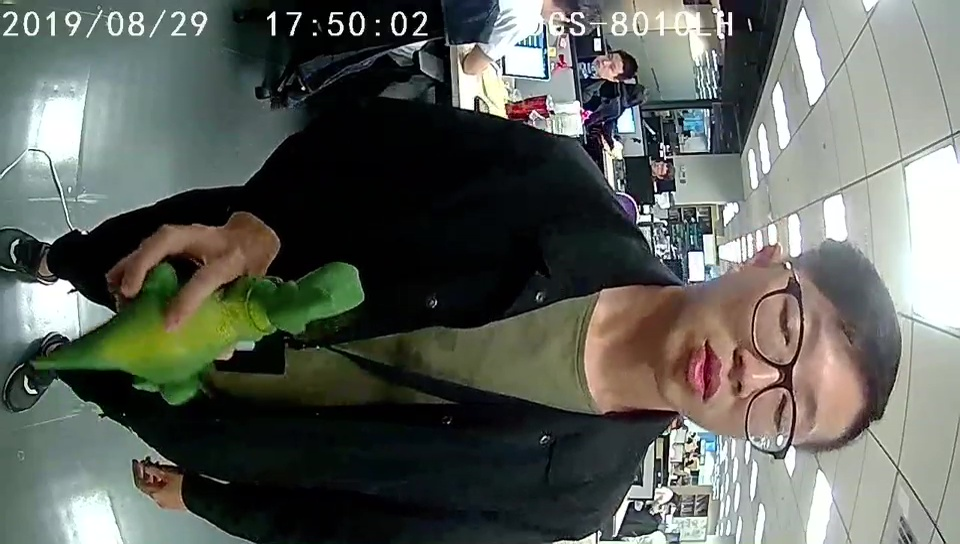rex: (93, 254, 365, 406)
